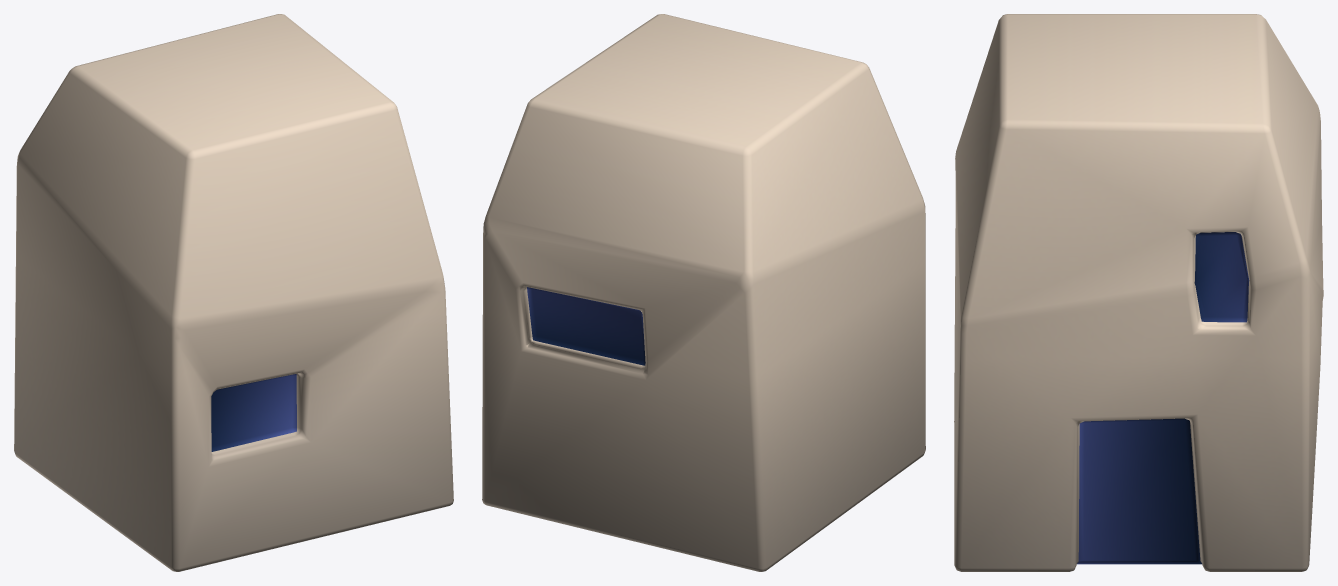
Rendered from house.obj.
3 renders of one model, left to right at view 1: azimuth 30°, elevation 25°; view 2: azimuth 150°, elevation 25°; view 3: azimuth 270°, elevation 25°, orthographic. The views are drawn at different scales.
Parts seen in each view (by area): view 1: Cube.001; view 2: Cube.001; view 3: Cube.001.
Boxes of the visible parts, x1=… form: Cube.001: x1=14, y1=14, x2=453, y2=571; Cube.001: x1=482, y1=14, x2=925, y2=571; Cube.001: x1=954, y1=14, x2=1323, y2=571.
Size of the model in its own units: 2 by 2.7 by 2.08.
